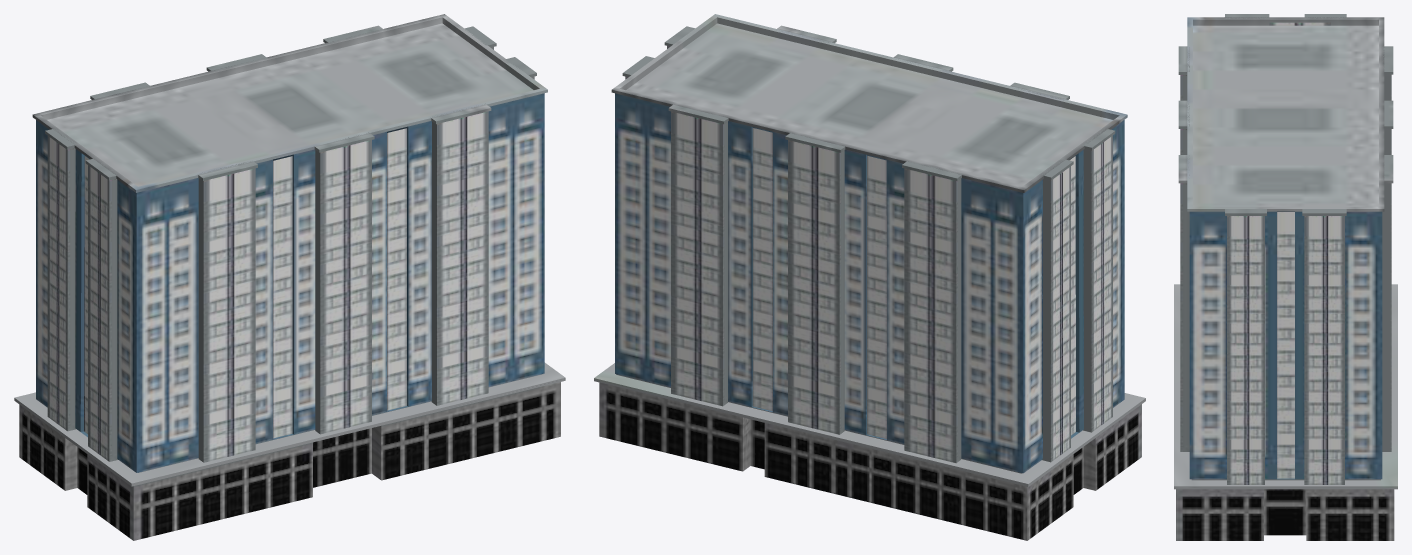
The picture shows the model from 3 angles, left to right: view 1: azimuth 30°, elevation 25°; view 2: azimuth 150°, elevation 25°; view 3: azimuth 270°, elevation 25°; orthographic projection. The views are drawn at different scales.
Parts seen in each view (by area): view 1: 5b7398d0368c3649cc335163.001; view 2: 5b7398d0368c3649cc335163.001; view 3: 5b7398d0368c3649cc335163.001.
Boxes of the visible parts, x1,y1,x2,y2 form: 5b7398d0368c3649cc335163.001: (14, 14, 565, 540); 5b7398d0368c3649cc335163.001: (594, 14, 1145, 540); 5b7398d0368c3649cc335163.001: (1174, 14, 1397, 540).
Size of the model in its own units: 74.48 by 56.5 by 34.91.
1 material, 1 textured.
